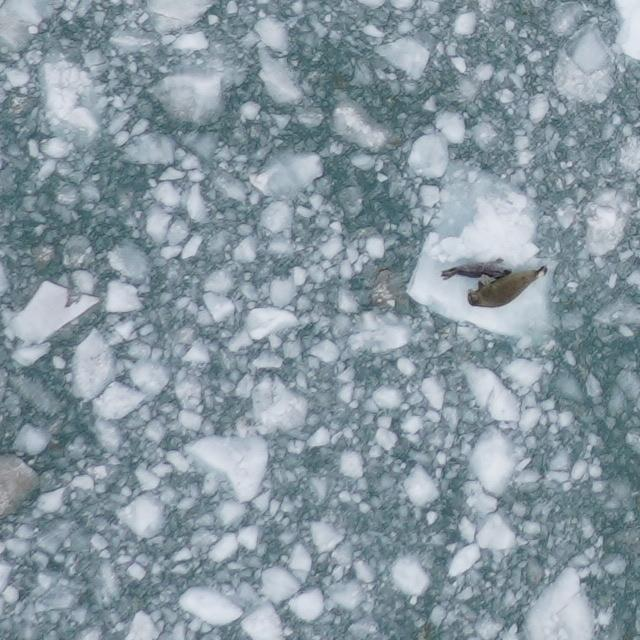seal: (466, 263, 550, 311), (439, 254, 514, 283)
